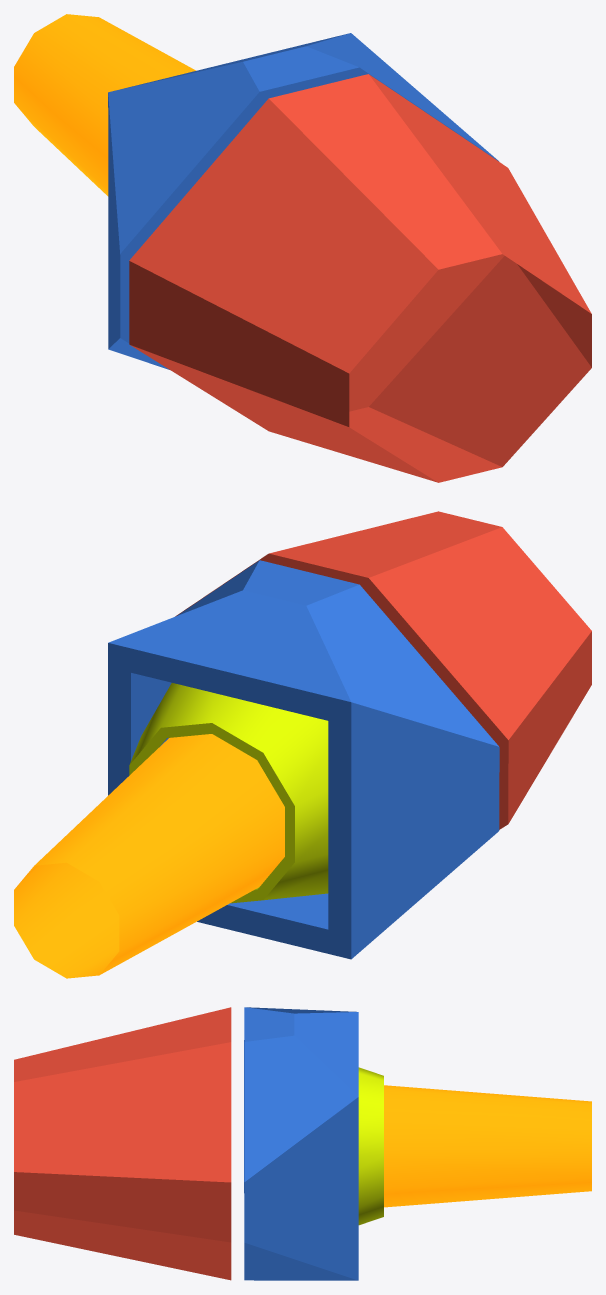
File: teleport.glb
The picture shows the model from 3 angles, top to bottom: view 1: azimuth 30°, elevation 25°; view 2: azimuth 150°, elevation 25°; view 3: azimuth 270°, elevation 25°; orthographic projection. The views are drawn at different scales.
Parts seen in each view (by area): view 1: Plane.008, boost-part.016; view 2: Plane.008, boost-part.016; view 3: Plane.008, boost-part.016.
Boxes of the visible parts, x1,y1,x2,y2 form: Plane.008: (108,33,591,482); boost-part.016: (14,14,195,196); Plane.008: (108,511,591,959); boost-part.016: (14,734,284,978); Plane.008: (14,1007,383,1280); boost-part.016: (384,1085,591,1207).
Bounding box in the file's own units: 0.1713 × 0.1437 × 0.3158.
